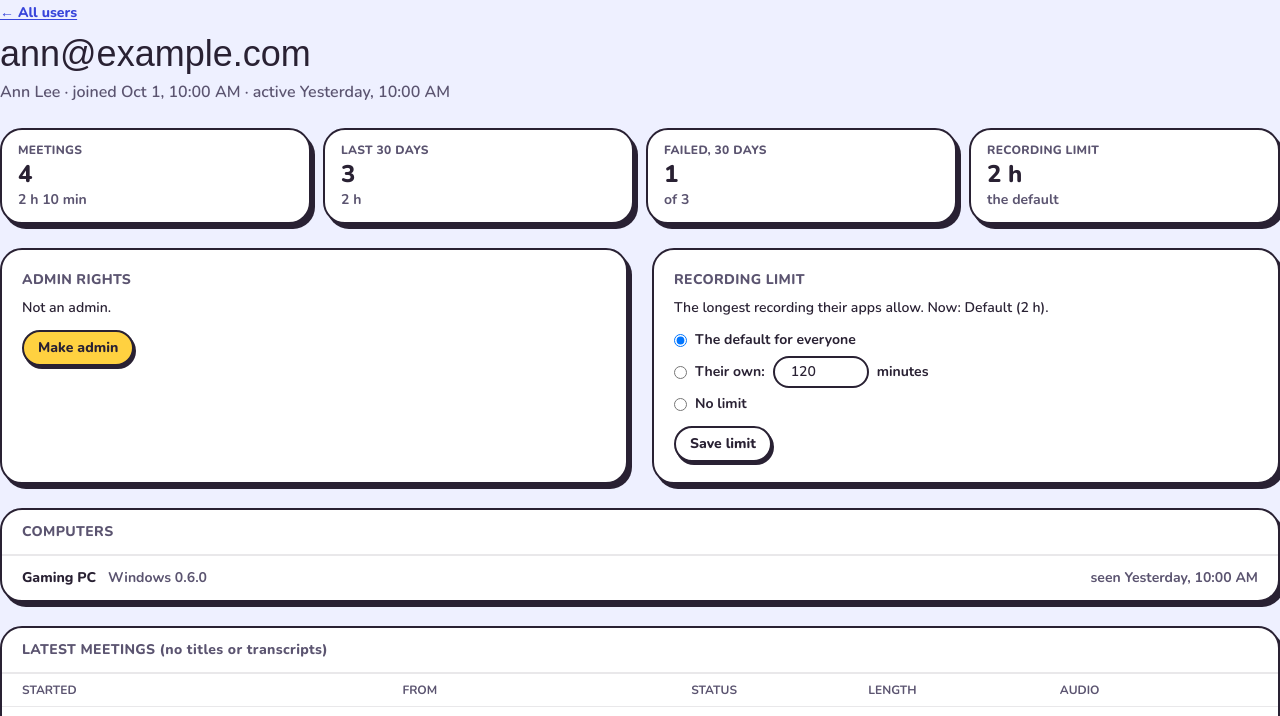
Test: AdminUserView › shows usage, computers and meetings without titles, and makes them an admin
Expected: the heading "ann@example.com" is shown, [0,33,311,74]
Expected: the element "Computers" shows "Gaming PC", [22,568,96,587]
Step 1. Click the button "Make admin" → x=78, y=348, box [22,330,134,366]
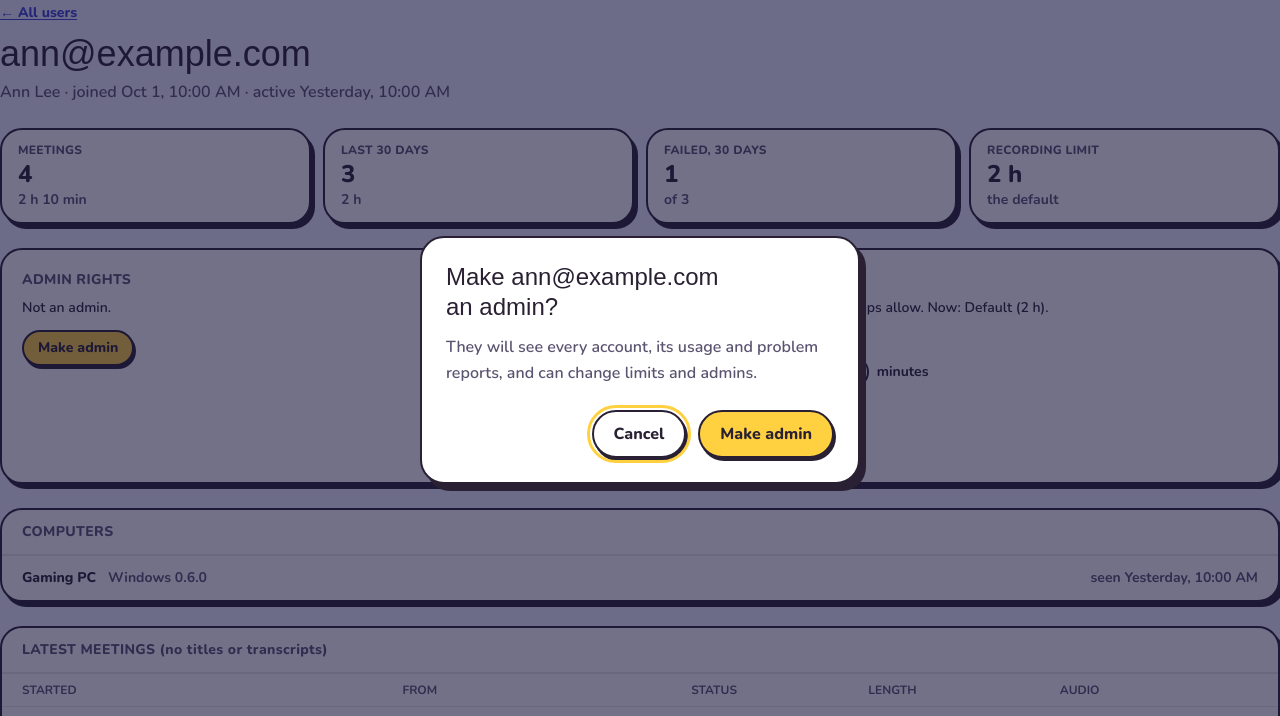
Step 2. Click the button "Make admin" below "Make ann@example.com an admin?" → x=766, y=434, box [698,410,834,458]
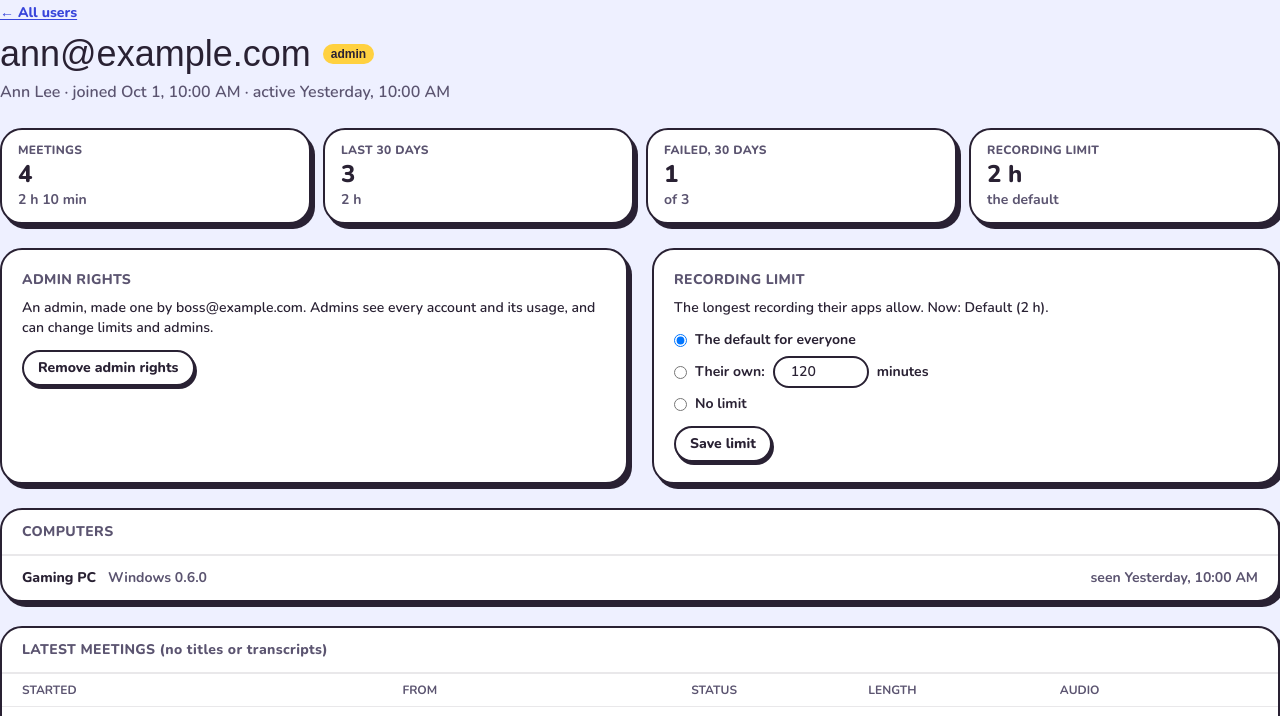
Result: the text "made one by boss@example.com" is shown at [22,298,595,337]
